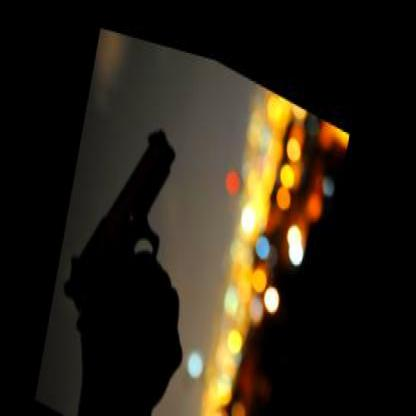pistol: (57, 82, 219, 377)
